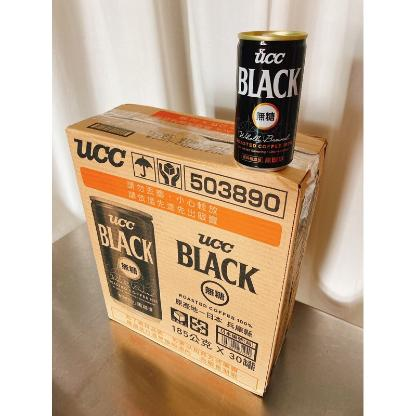Can: (235, 32, 308, 170)
